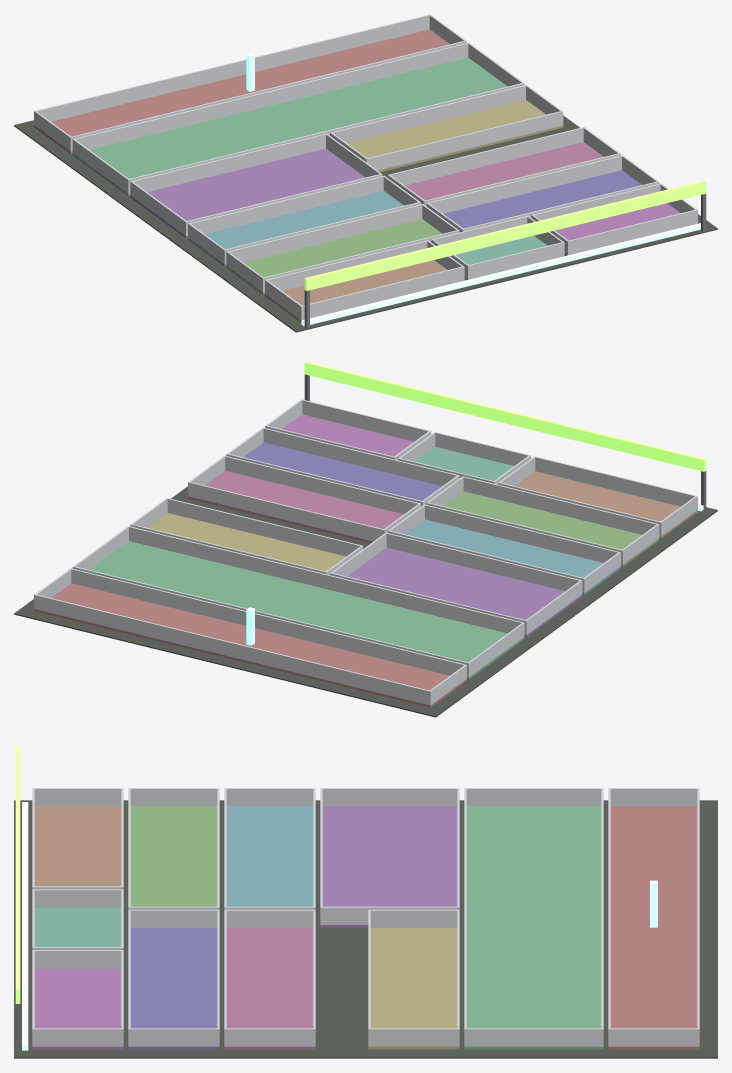
File: hall-scaffold.glb
3 renders of one model, top to bottom at view 1: azimuth 30°, elevation 25°; view 2: azimuth 150°, elevation 25°; view 3: azimuth 270°, elevation 25°, orthographic. The views are drawn at different scales.
Visible parts, largest first — view 1: Scaffold Erectors; view 2: Scaffold Erectors; view 3: Scaffold Erectors.
Part boxes in pixels (x1,y1,x2,y2): Scaffold Erectors: (14, 14, 717, 332); Scaffold Erectors: (14, 361, 717, 717); Scaffold Erectors: (14, 746, 717, 1058).
Size of the model in its own units: 38 by 4.3 by 44.
